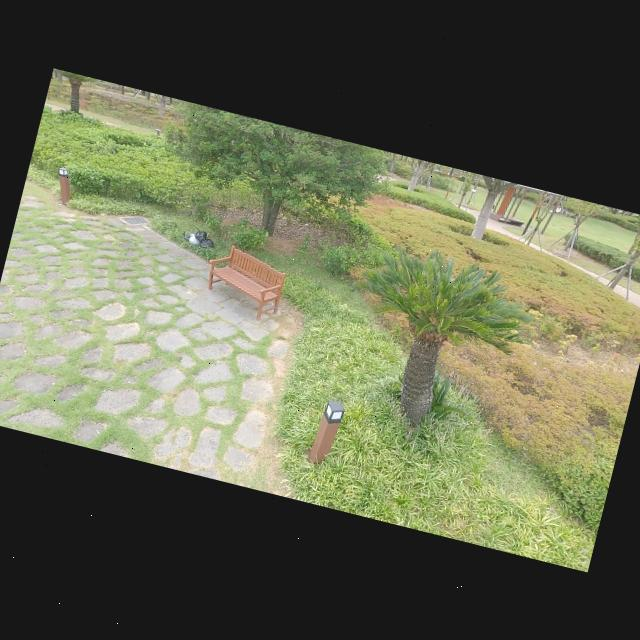trash: (196, 232, 216, 252), (191, 226, 209, 243), (185, 231, 203, 247), (179, 229, 192, 241)
